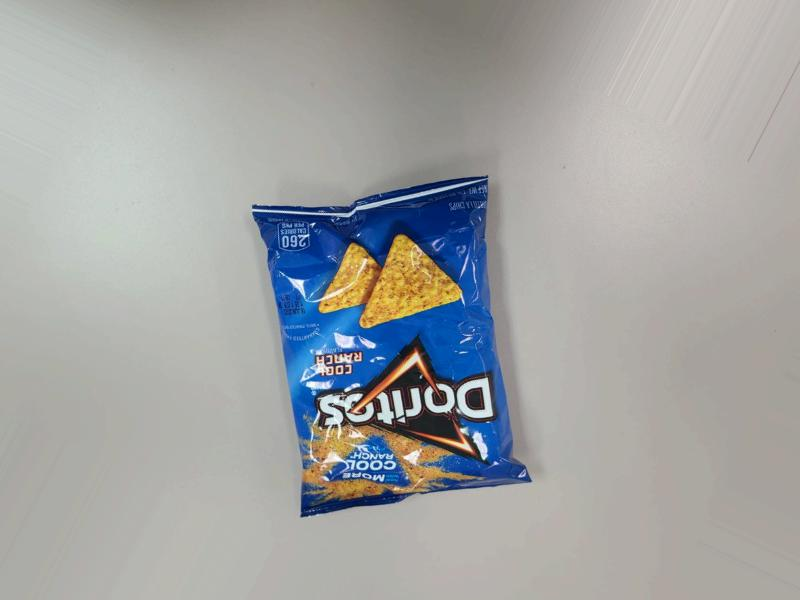doritos: (255, 176, 524, 524)
